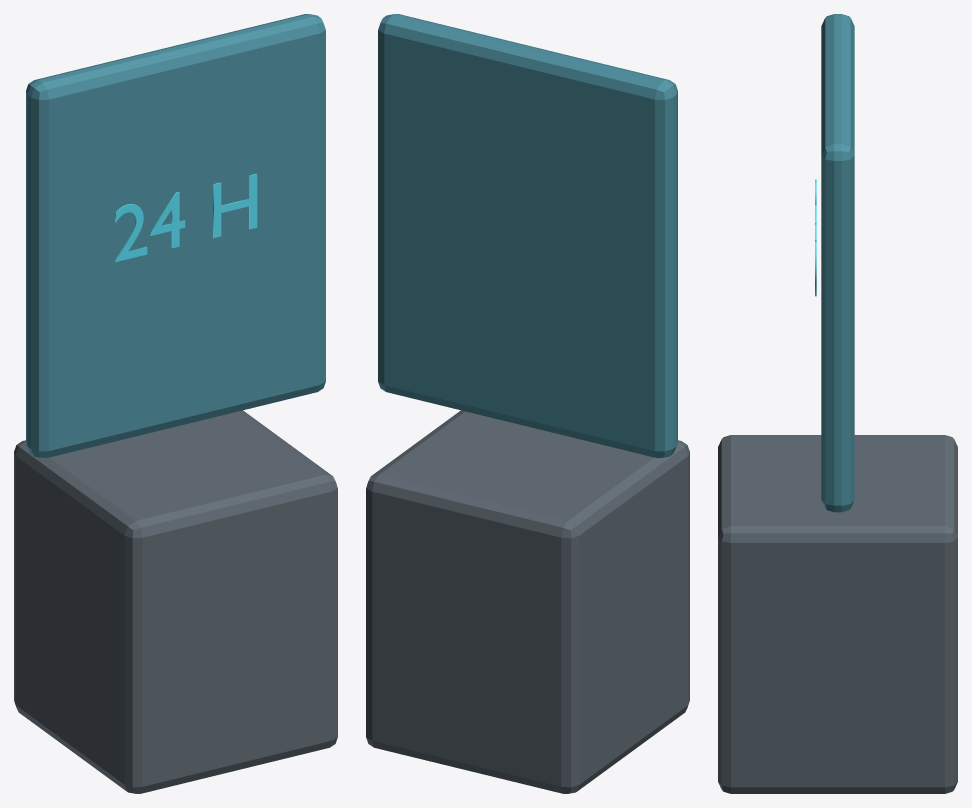
The model's file is 0_Vent.fbx.
3 views of the same model, side by side, from view 1: azimuth 30°, elevation 25°; view 2: azimuth 150°, elevation 25°; view 3: azimuth 270°, elevation 25° (orthographic). The views are drawn at different scales.
Parts seen in each view (by area): view 1: Rotor, Body; view 2: Rotor, Body; view 3: Body, Rotor.
Part boxes in pixels (x1=…): Rotor: x1=26, y1=14, x2=325, y2=458; Body: x1=14, y1=410, x2=337, y2=793; Rotor: x1=378, y1=14, x2=677, y2=458; Body: x1=366, y1=410, x2=689, y2=793; Body: x1=718, y1=435, x2=957, y2=793; Rotor: x1=815, y1=14, x2=854, y2=512.
Size of the model in its own units: 0.9 by 2 by 0.65.
